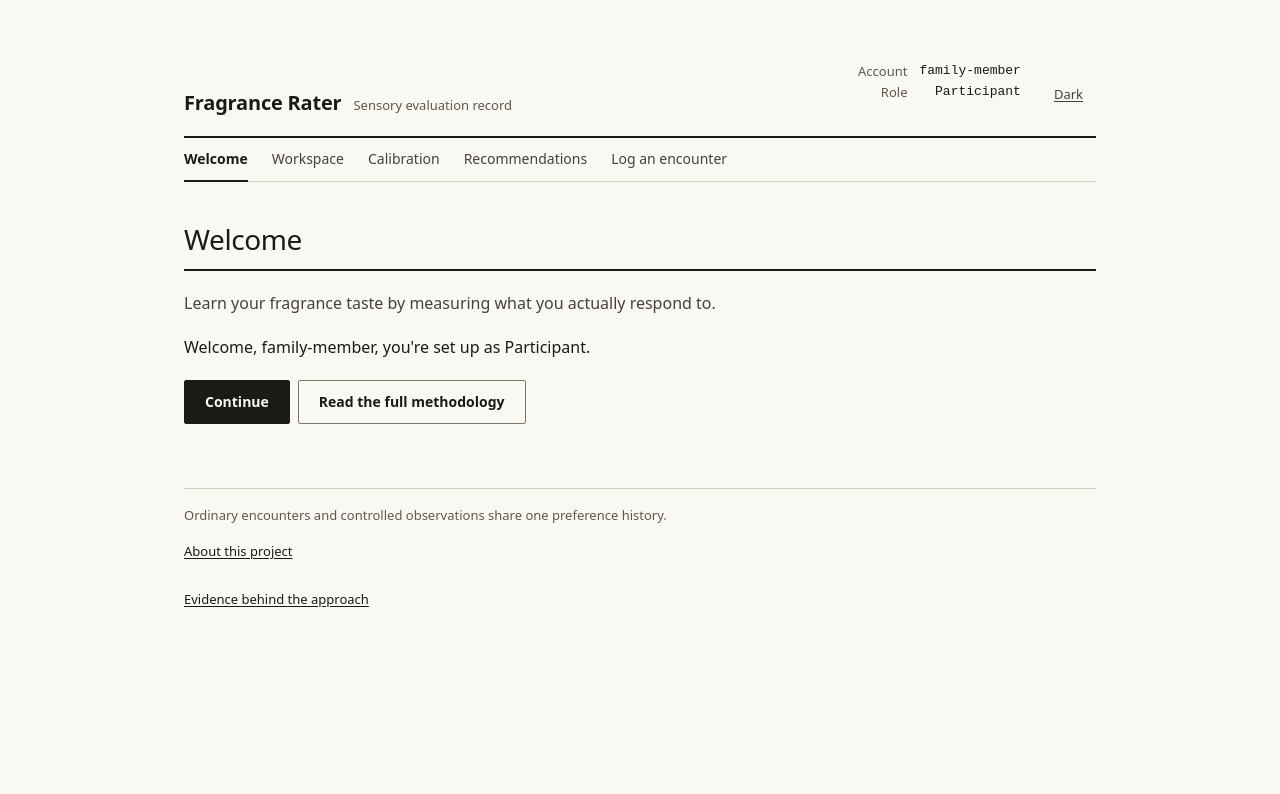
Test case: Evidence page › is available from the footer without entering primary task navigation
Click the link "Evidence behind the approach": (276, 599) [184, 590, 369, 608]
(page scrolled)
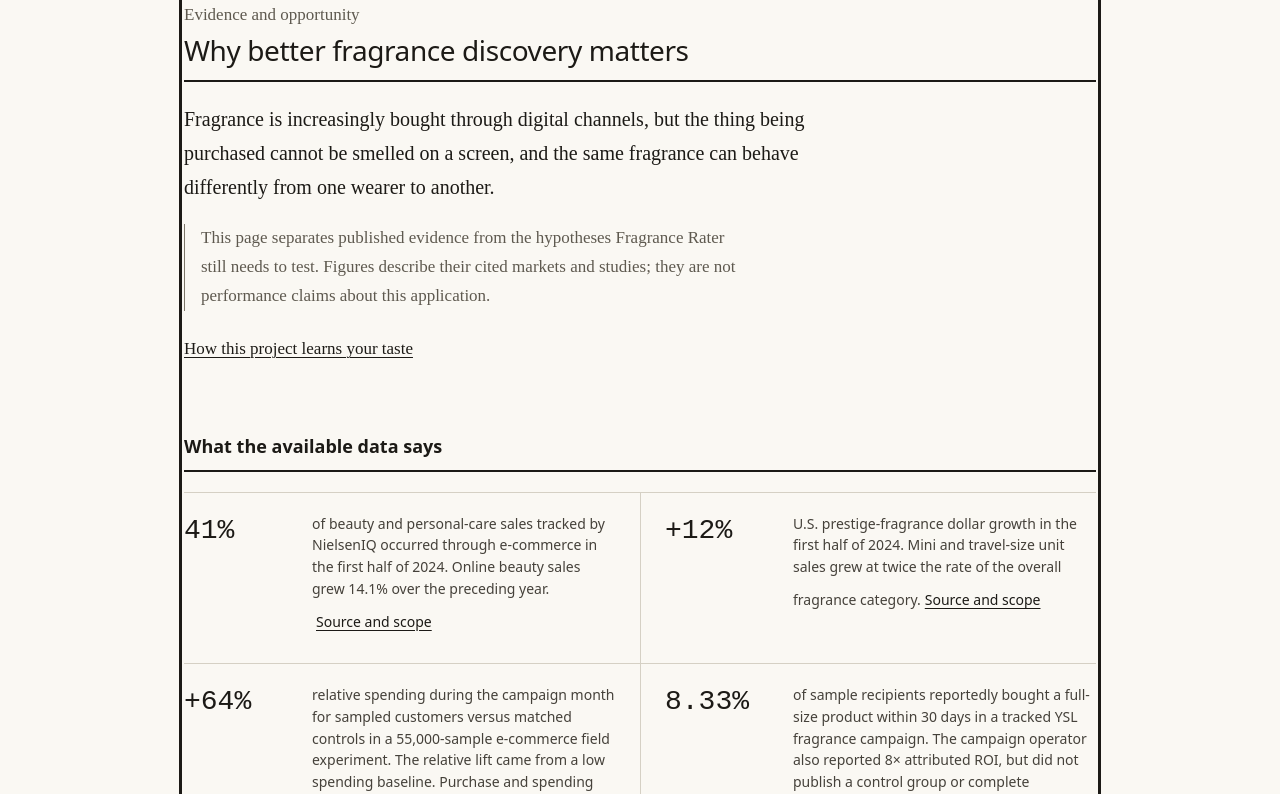
Check: the heading "Why better fragrance discovery matters" is shown, box [184, 34, 689, 68]
